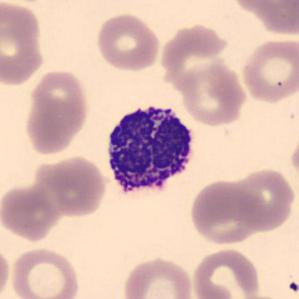Basophil: (101, 96, 199, 205)
Platelets: (287, 279, 298, 294)
RBC: (24, 66, 91, 153), (188, 179, 263, 247), (178, 59, 248, 128), (229, 166, 298, 233), (160, 26, 228, 91), (94, 11, 162, 73), (239, 36, 298, 105), (0, 0, 46, 88), (9, 245, 83, 299), (47, 154, 108, 218), (190, 246, 263, 299), (0, 182, 58, 243), (120, 254, 195, 299), (226, 0, 299, 35), (227, 0, 297, 15), (0, 244, 12, 299), (288, 131, 299, 186), (232, 293, 296, 299)
